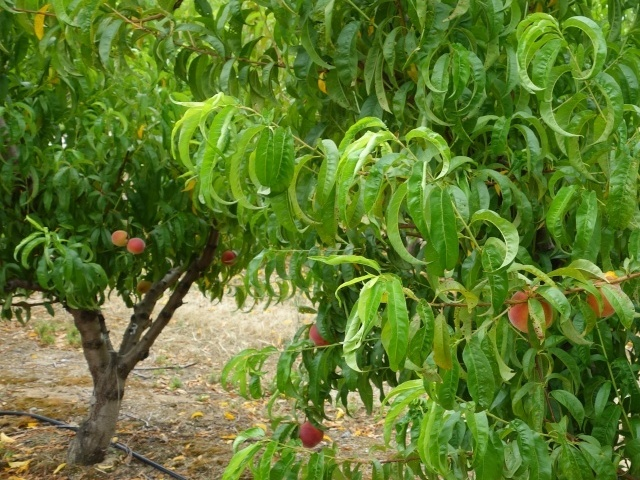peach: (502, 285, 557, 335), (583, 283, 618, 322), (302, 322, 333, 353), (296, 419, 326, 451), (107, 228, 132, 252), (124, 236, 147, 258), (218, 248, 241, 270)
